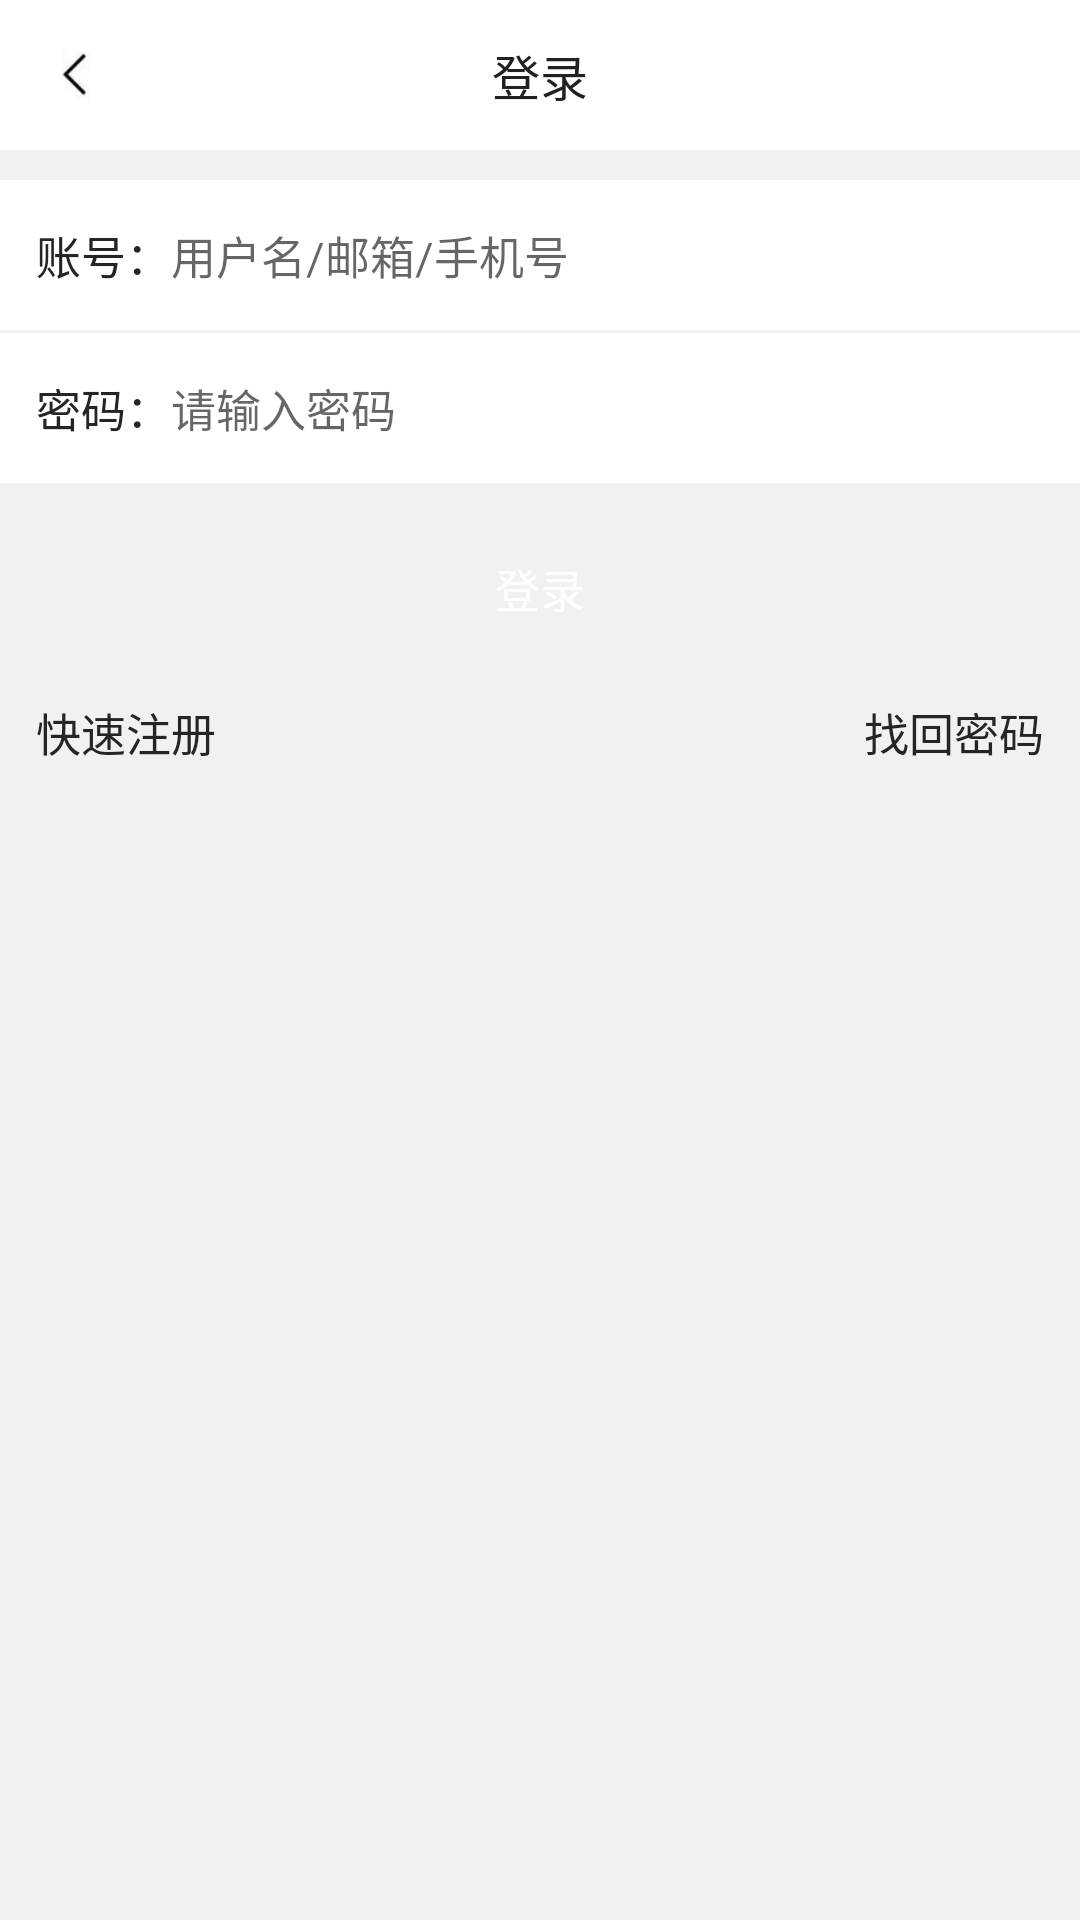

Where icons sit on this 1080x1920 app screen, as detection(x1, y1, x2, y2):
commom title back: detection(62, 53, 87, 95)
